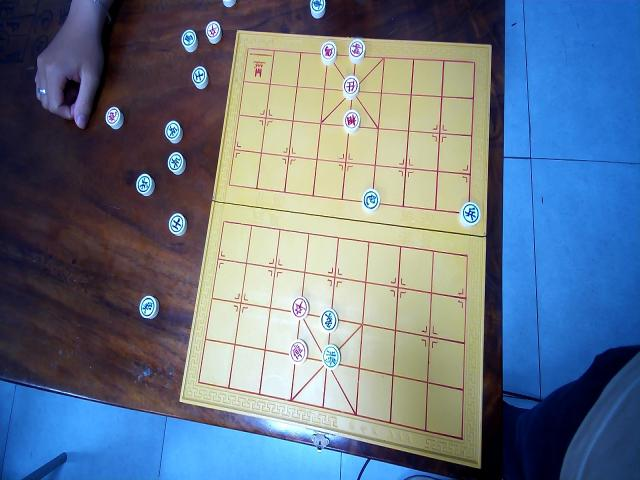piece: (458, 201, 480, 228), (138, 294, 158, 319), (361, 188, 380, 213), (322, 344, 341, 369), (135, 172, 154, 196), (342, 108, 360, 133), (342, 73, 360, 98), (289, 338, 307, 363), (168, 212, 186, 237), (291, 296, 309, 320), (104, 104, 122, 128), (167, 152, 185, 176), (320, 308, 338, 332), (348, 38, 365, 63), (320, 39, 336, 65), (164, 120, 182, 143), (191, 65, 208, 89), (205, 19, 221, 43), (181, 28, 197, 52), (309, 0, 325, 18), (222, 0, 235, 7)
